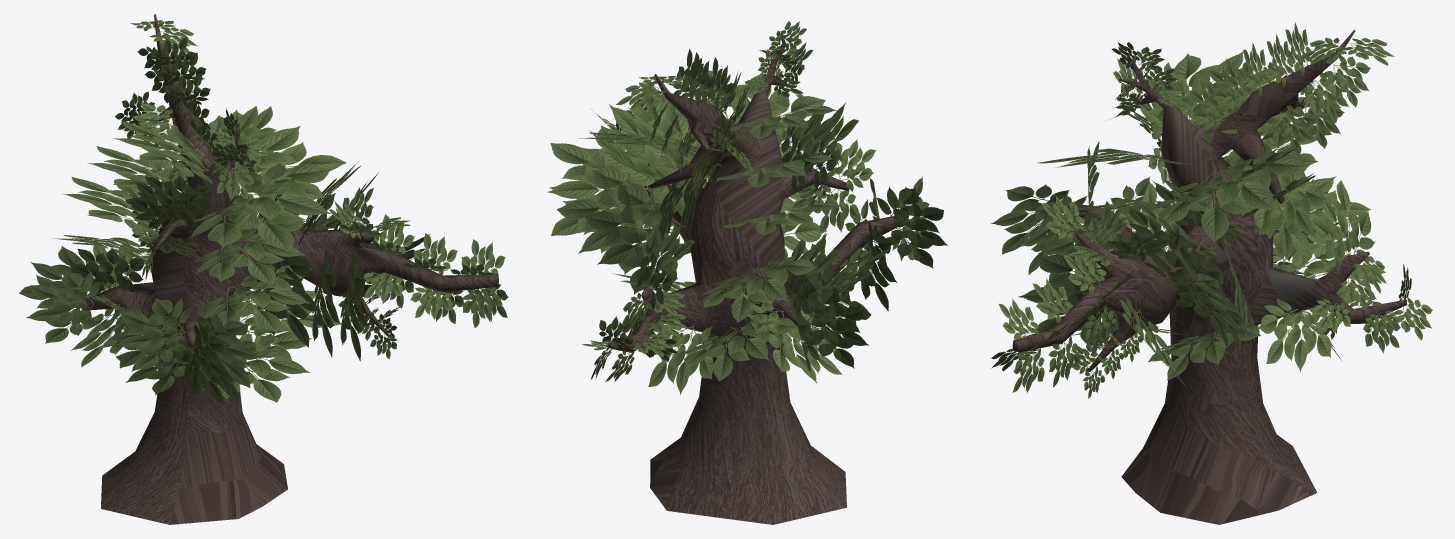
File: Arbol_3.fbx
3 views of the same model, side by side, from view 1: azimuth 30°, elevation 25°; view 2: azimuth 150°, elevation 25°; view 3: azimuth 270°, elevation 25° (orthographic). The views are drawn at different scales.
Parts seen in each view (by area): view 1: Hoja_tipo_1.003; view 2: Hoja_tipo_1.003; view 3: Hoja_tipo_1.003.
Boxes of the visible parts, x1,y1,x2,y2 form: Hoja_tipo_1.003: [19, 14, 508, 524]; Hoja_tipo_1.003: [547, 21, 947, 524]; Hoja_tipo_1.003: [990, 22, 1432, 524].
Bounding box in the file's own units: 1991 × 2113 × 1919.
